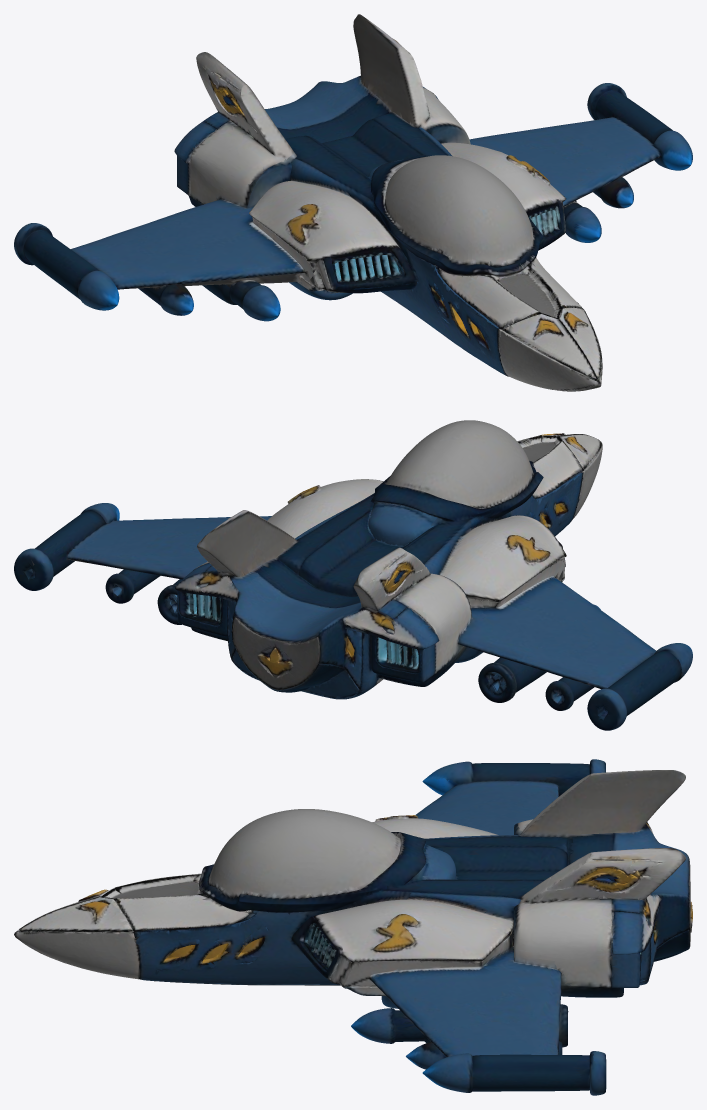
Rendered from ship_ego.fbx.
3 renders of one model, top to bottom at view 1: azimuth 30°, elevation 25°; view 2: azimuth 150°, elevation 25°; view 3: azimuth 270°, elevation 25°, orthographic. The views are drawn at different scales.
Parts seen in each view (by area): view 1: shipimport_tripo_node_bcbbe187; view 2: shipimport_tripo_node_bcbbe187; view 3: shipimport_tripo_node_bcbbe187.
Part boxes in pixels (x1,y1,x2,y2): shipimport_tripo_node_bcbbe187: (14,14,692,391); shipimport_tripo_node_bcbbe187: (14,420,692,730); shipimport_tripo_node_bcbbe187: (14,759,692,1095).
Size of the model in its own units: 98.02 by 24.57 by 90.72.
1 material, 1 textured.
